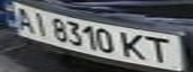0: (97, 26, 118, 55)
1: (78, 22, 96, 51)
3: (63, 19, 84, 47)
8: (45, 16, 69, 44)
A: (9, 4, 39, 34)
I: (27, 10, 54, 37)
K: (118, 29, 151, 62)
T: (142, 34, 181, 65)
